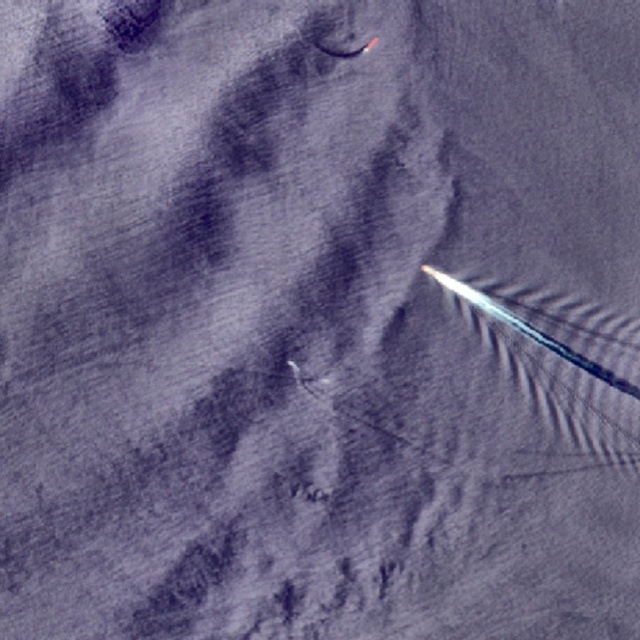wake: (382, 212, 636, 420)
